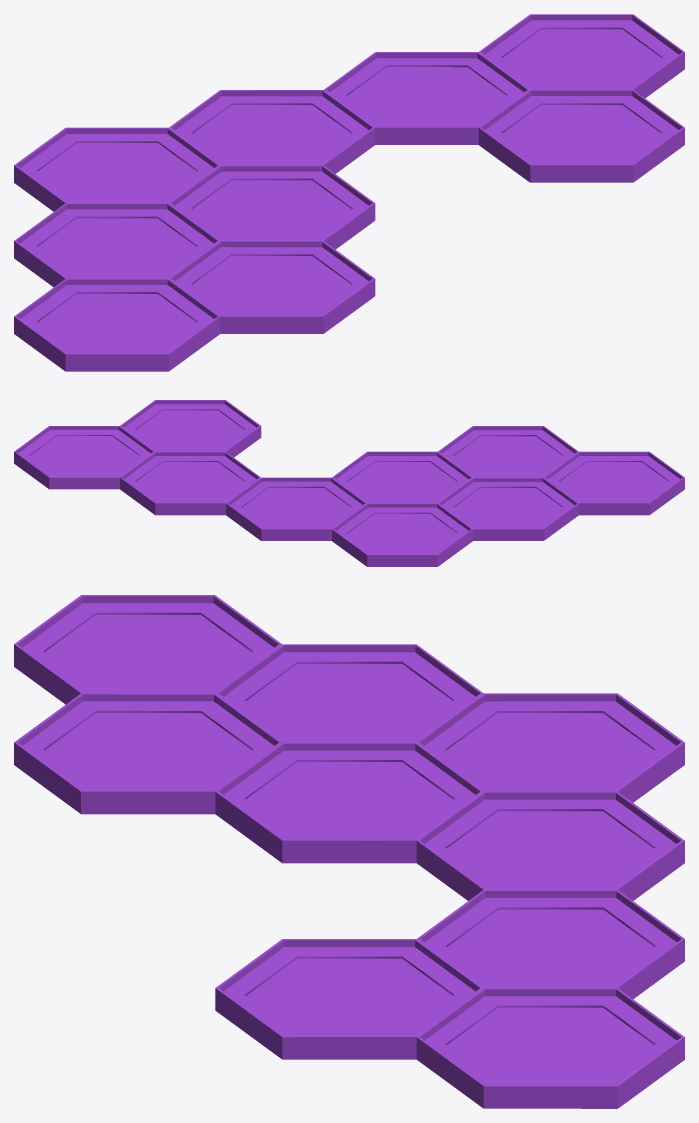
The model's file is MoldInsertStage3_2.fbx.
3 views of the same model, one above another, from view 1: azimuth 30°, elevation 25°; view 2: azimuth 150°, elevation 25°; view 3: azimuth 270°, elevation 25° (orthographic). The views are drawn at different scales.
Parts seen in each view (by area): view 1: MoldInsertStage3_2; view 2: MoldInsertStage3_2; view 3: MoldInsertStage3_2.
Part boxes in pixels (left/top/right/bottom): MoldInsertStage3_2: left=14, top=14, right=684, bottom=371; MoldInsertStage3_2: left=14, top=400, right=684, bottom=566; MoldInsertStage3_2: left=14, top=595, right=684, bottom=1108.
Size of the model in its own units: 910 by 19.68 by 525.
